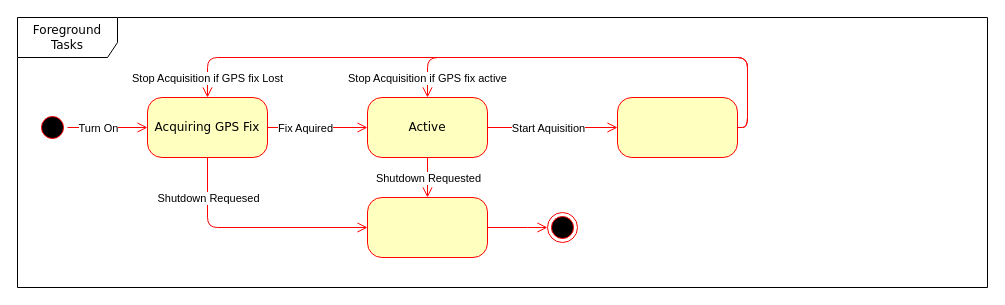
The diagram is 1005 pixels wide and 305 high, and some of its shapes have lost their labels. The shapes that lost their labels are listed below. From the top down, each one's box as (x1, y1, x2, y2) in pixels, then its label:
(616, 96, 738, 158): Acquiring Data
(366, 196, 488, 258): Cleanup
